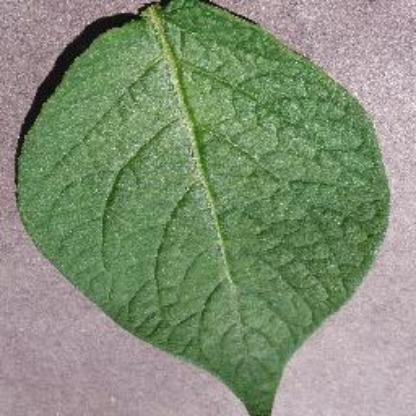Healthy-plant: (13, 0, 398, 416)
